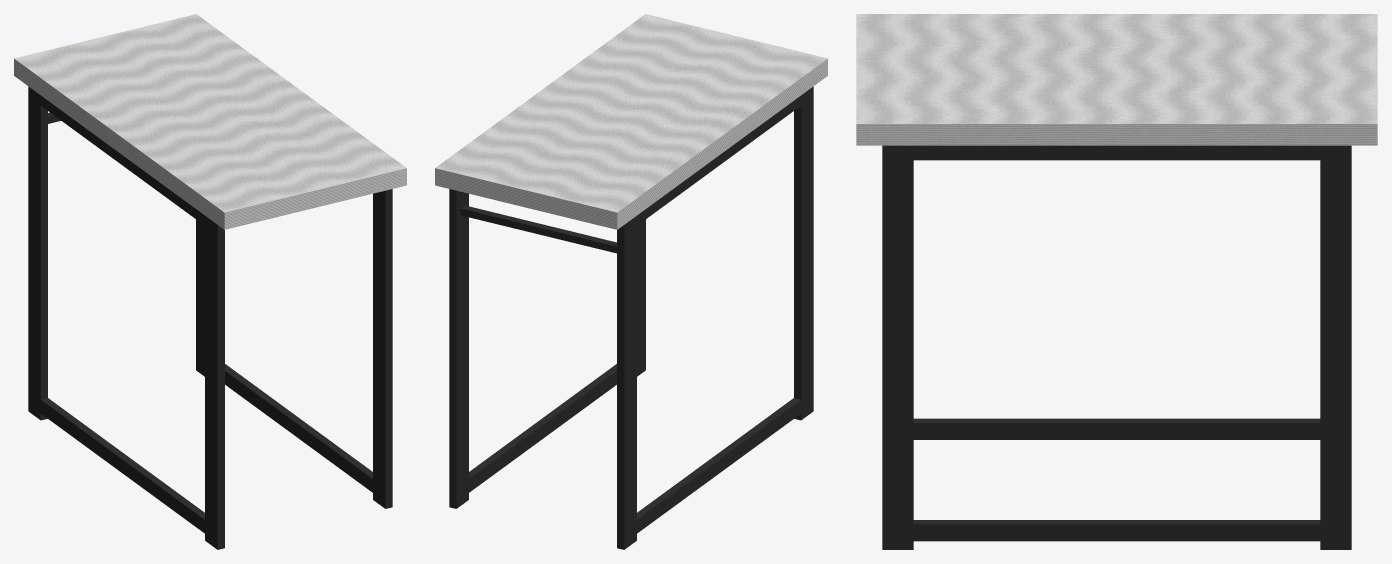
3 views of the same model, side by side, from view 1: azimuth 30°, elevation 25°; view 2: azimuth 150°, elevation 25°; view 3: azimuth 270°, elevation 25° (orthographic). The views are drawn at different scales.
Visible parts, largest first — view 1: 1 desktop, 2 left_front_leg, 3 left_back_leg, 6 right_front_leg, 4 left_bottom_bar, 8 right_bottom_bar, 5 left_top_bar, 7 right_back_leg; view 2: 1 desktop, 3 left_back_leg, 2 left_front_leg, 7 right_back_leg, 4 left_bottom_bar, 8 right_bottom_bar, 5 left_top_bar, 10 back_support_bar, 6 right_front_leg; view 3: 1 desktop, 7 right_back_leg, 6 right_front_leg, 8 right_bottom_bar, 4 left_bottom_bar, 9 right_top_bar.
Part boxes in pixels (x1,y1,x2,y2): 1 desktop: (14, 14, 406, 229); 2 left_front_leg: (205, 216, 224, 549); 3 left_back_leg: (28, 86, 47, 420); 6 right_front_leg: (373, 189, 392, 508); 4 left_bottom_bar: (35, 398, 210, 536); 8 right_bottom_bar: (202, 354, 379, 496); 5 left_top_bar: (40, 95, 211, 229); 7 right_back_leg: (196, 219, 204, 376); 1 desktop: (435, 14, 827, 229); 3 left_back_leg: (617, 216, 636, 549); 2 left_front_leg: (794, 86, 813, 420); 7 right_back_leg: (449, 189, 468, 508); 4 left_bottom_bar: (630, 397, 807, 536); 8 right_bottom_bar: (462, 354, 639, 496); 5 left_top_bar: (630, 92, 805, 229); 10 back_support_bar: (460, 205, 616, 253); 6 right_front_leg: (637, 219, 645, 376); 1 desktop: (856, 14, 1377, 145); 7 right_back_leg: (1320, 145, 1351, 549); 6 right_front_leg: (882, 145, 913, 549); 8 right_bottom_bar: (898, 520, 1335, 541); 4 left_bottom_bar: (913, 418, 1320, 439); 9 right_top_bar: (898, 145, 1335, 160).
Size of the model in its own units: 0.4064 by 0.7366 by 0.8128.
Materials: 2 (1 with a texture image).
